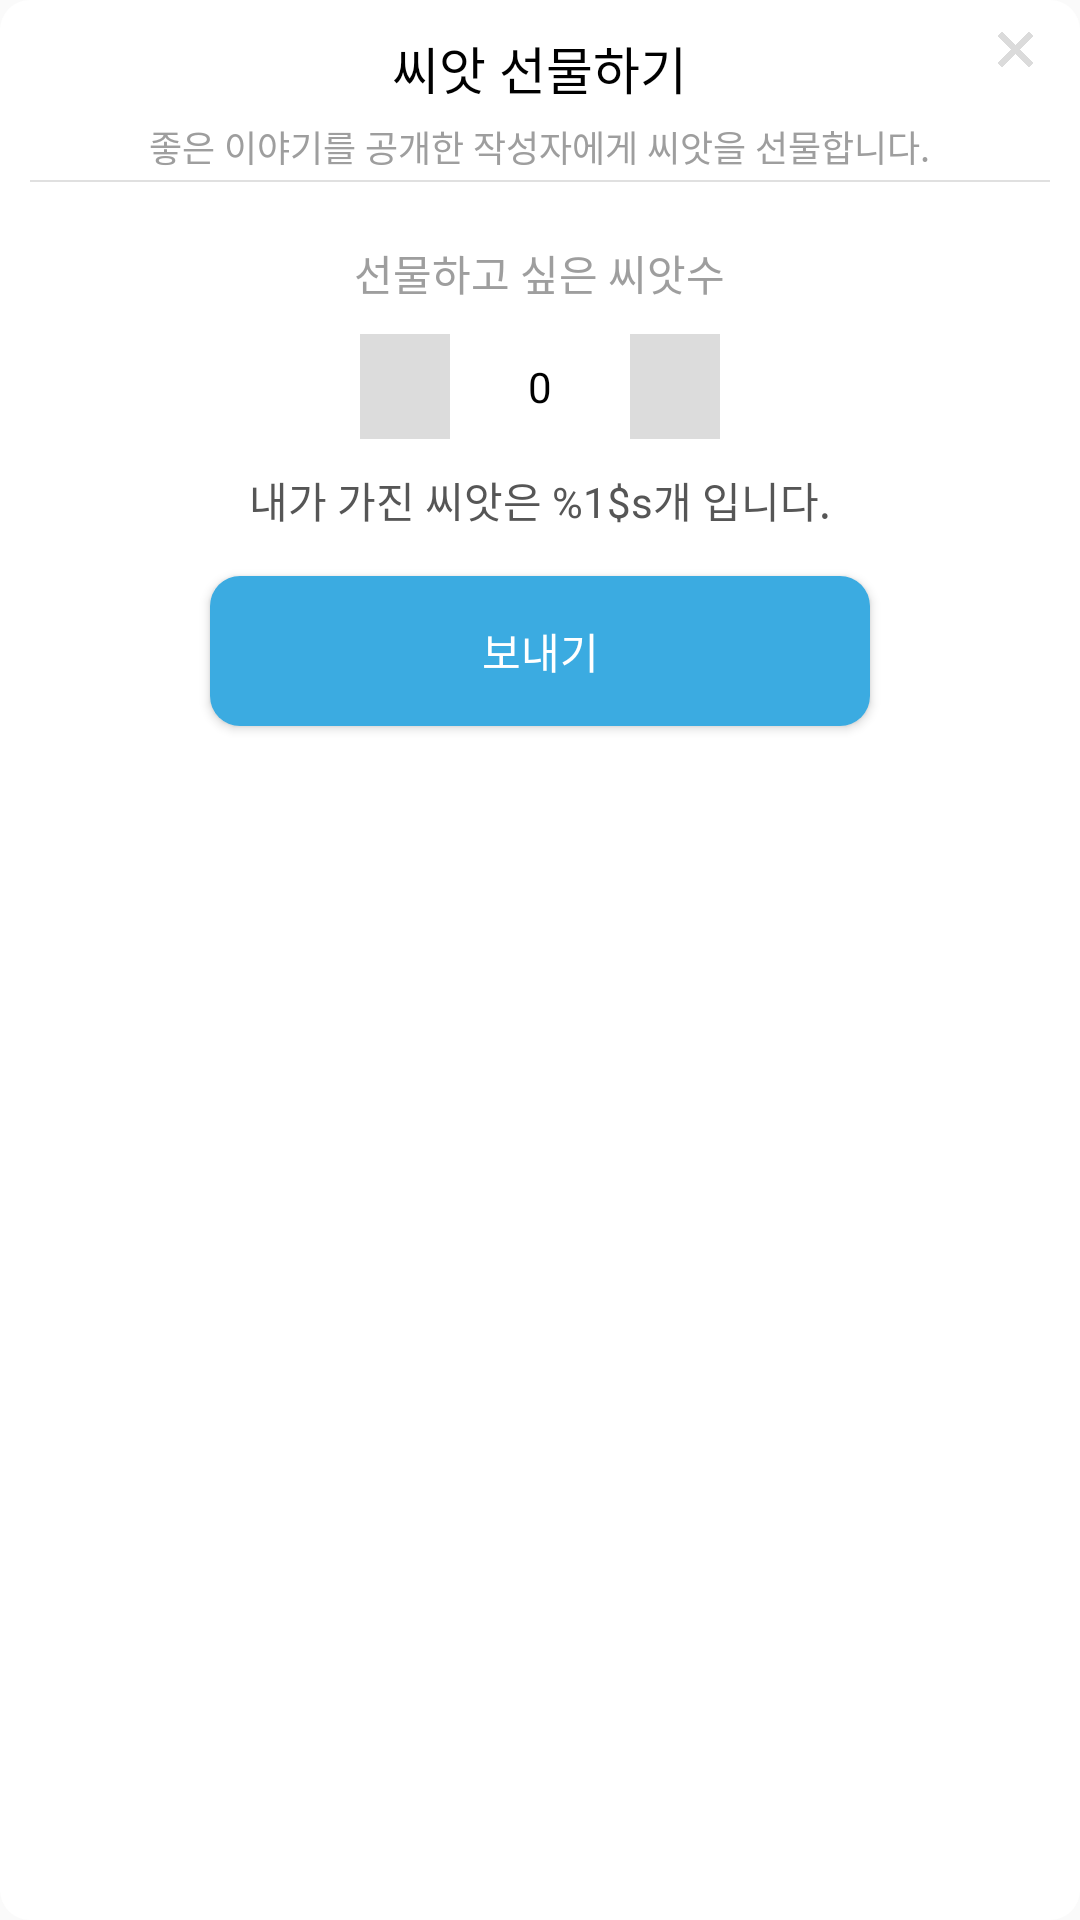

Icon bounding boxes for this 1080px x 1920px phone screenshot, format (x1, y1, x2, y2):
close: (998, 32, 1033, 67)
